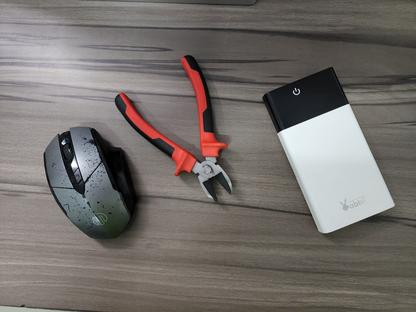mouse: (41, 125, 138, 240)
